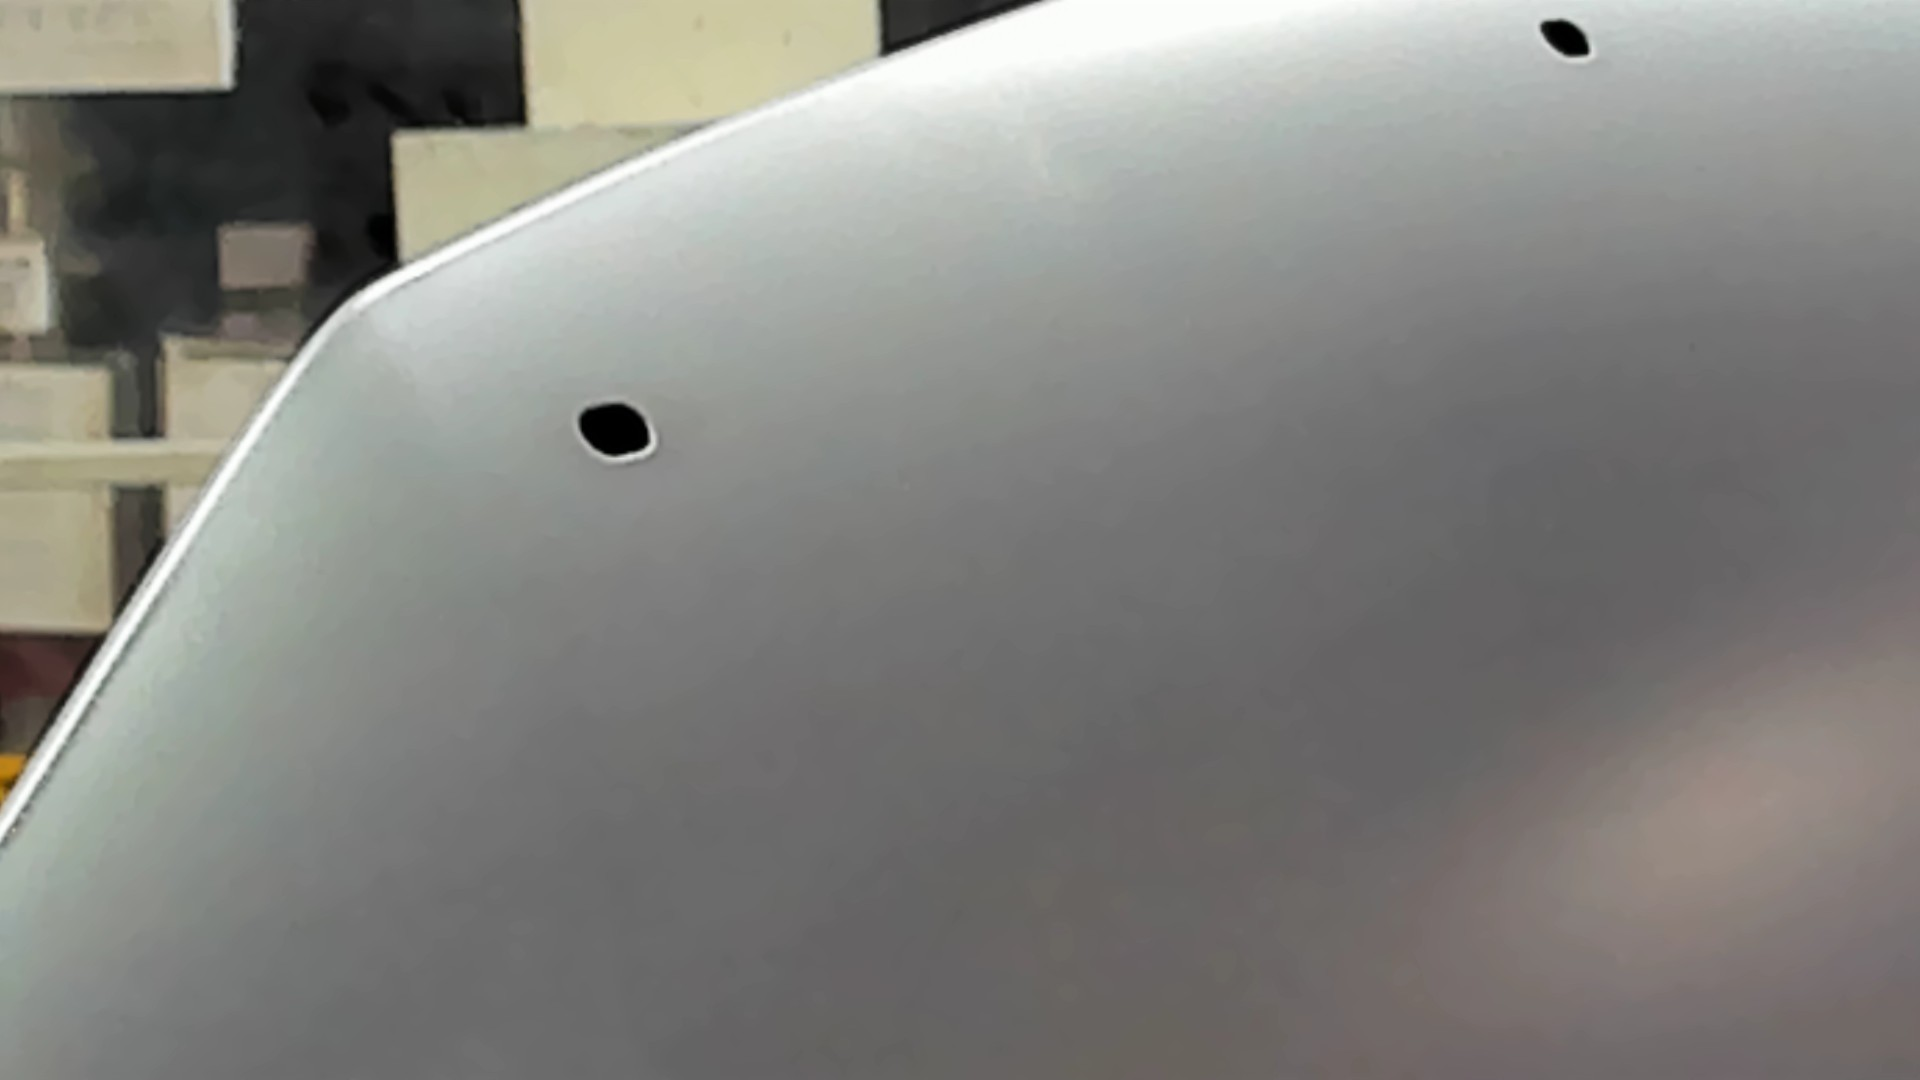amorfo: (568, 396, 670, 463), (1534, 15, 1606, 69)
